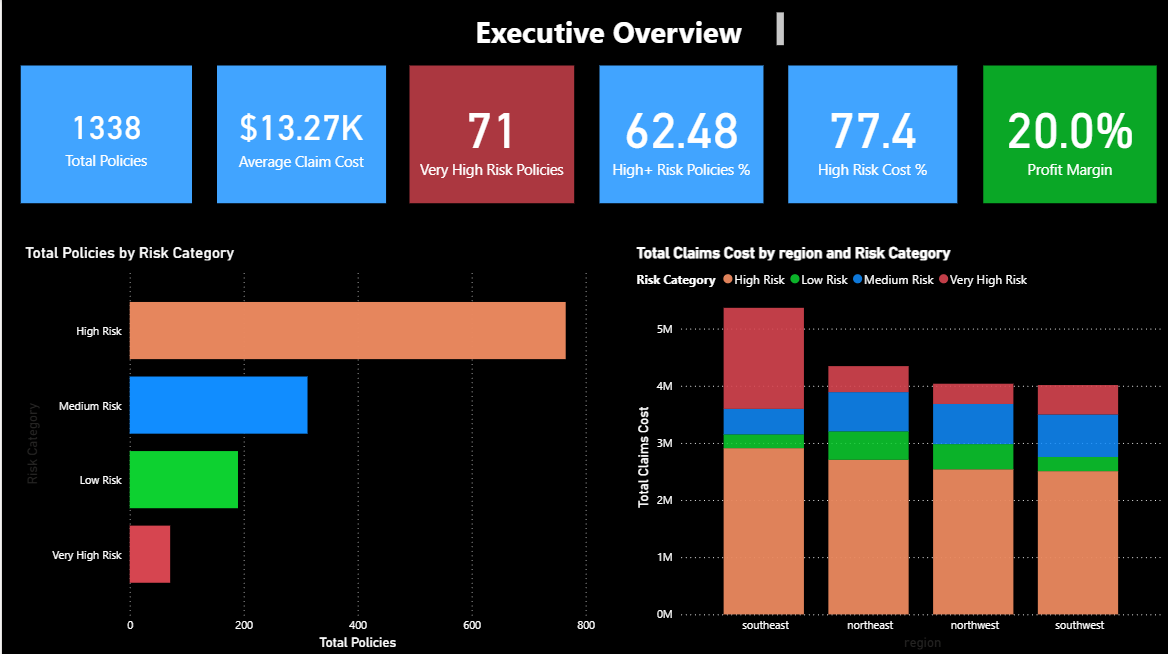

This screenshot's page, from the dashboard's own definition file:
{"tool":"powerbi","page":{"name":"Executive Overview","canvas":[1280,720],"ordinal":0},"visuals":[{"type":"card","fields":{"Values":["insurance.Total Policies"]},"box":[20.6,74.1,188,150.9],"z":0},{"type":"card","fields":{"Values":["insurance.Average Claim Cost"]},"box":[236,74.1,185.2,150.9],"z":1000},{"type":"card","fields":{"Values":["insurance.High Risk Cost %"]},"box":[863.1,74.1,185.2,150.9],"z":2000},{"type":"card","fields":{"Values":["insurance.High Risk Policies"]},"box":[447.3,74.1,181.1,150.9],"z":3000},{"type":"card","fields":{"Values":["insurance.Profit Margin"]},"box":[1077.2,74.1,190.7,150.9],"z":4000},{"type":"card","fields":{"Values":["insurance.High Risk Policies %"]},"box":[655.9,74.1,179.8,150.9],"z":5000},{"type":"barChart","fields":{"Category":["insurance.Risk Category"],"Y":["insurance.Total Policies"]},"box":[20.6,269,635.3,451.5],"z":6000},{"type":"columnChart","fields":{"Y":["insurance.Total Claims Cost"],"Category":["insurance.region"],"Series":["insurance.Risk Category"]},"box":[691.6,269,588.7,451.5],"z":7000},{"type":"textbox","box":[477.5,11,385.6,49.4],"z":8000}]}

Visuals, with their boxes in screenshot pixels (x1, y1, x2, y2), scaled from the page's 1280x720 canvas onto the 1168x654 screenshot:
card - insurance.Total Policies: select_region(19, 67, 190, 204)
card - insurance.Average Claim Cost: select_region(215, 67, 384, 204)
card - insurance.High Risk Cost %: select_region(788, 67, 957, 204)
card - insurance.High Risk Policies: select_region(408, 67, 573, 204)
card - insurance.Profit Margin: select_region(983, 67, 1157, 204)
card - insurance.High Risk Policies %: select_region(599, 67, 763, 204)
barChart - insurance.Risk Category x insurance.Total Policies: select_region(19, 244, 599, 653)
columnChart - insurance.Total Claims Cost x insurance.region: select_region(631, 244, 1167, 653)
textbox: select_region(436, 10, 788, 55)
